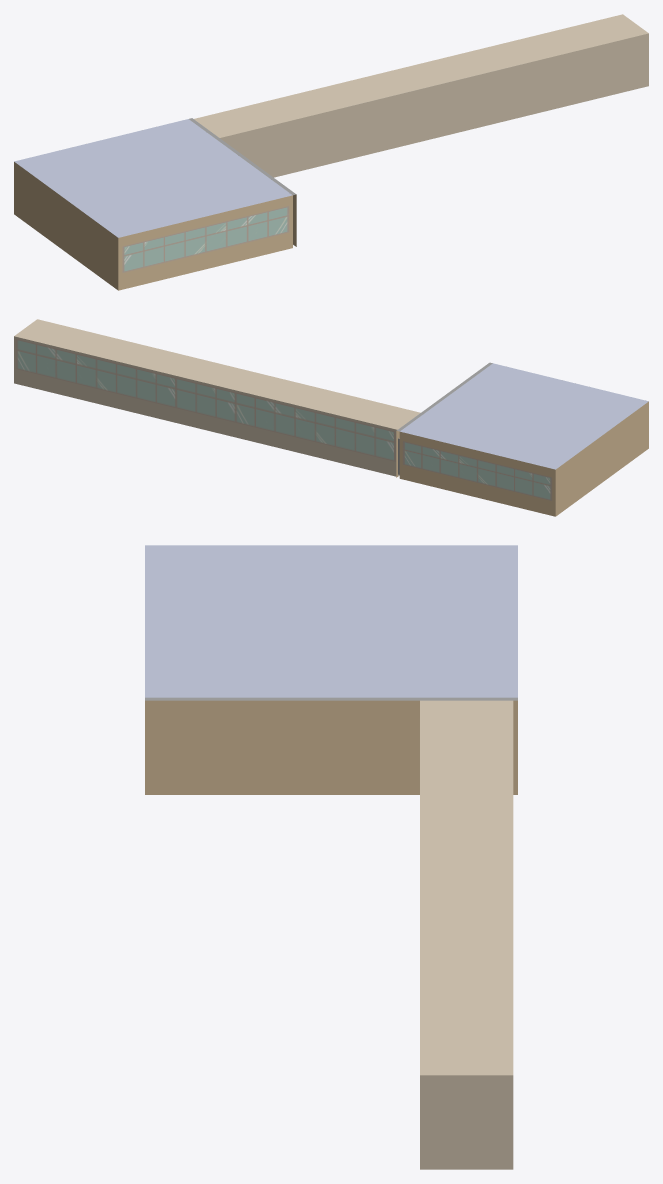
File: ongakushitu_7.fbx
3 renders of one model, top to bottom at view 1: azimuth 30°, elevation 25°; view 2: azimuth 150°, elevation 25°; view 3: azimuth 270°, elevation 25°, orthographic. The views are drawn at different scales.
Parts seen in each view (by area): view 1: pCube2, tenjou, polySurface2; view 2: pCube2, tenjou, polySurface2; view 3: tenjou, pCube2, polySurface2.
Boxes of the visible parts, left/top/right/bottom form: pCube2: left=194, top=14, right=648, bottom=177; tenjou: left=14, top=119, right=292, bottom=237; polySurface2: left=14, top=118, right=296, bottom=290; pCube2: left=14, top=319, right=420, bottom=476; tenjou: left=400, top=363, right=648, bottom=469; polySurface2: left=396, top=362, right=648, bottom=516; tenjou: left=145, top=545, right=517, bottom=697; pCube2: left=420, top=700, right=513, bottom=1169; polySurface2: left=145, top=697, right=517, bottom=794.
Size of the model in its own units: 81.93 by 6.8 by 24.39.
